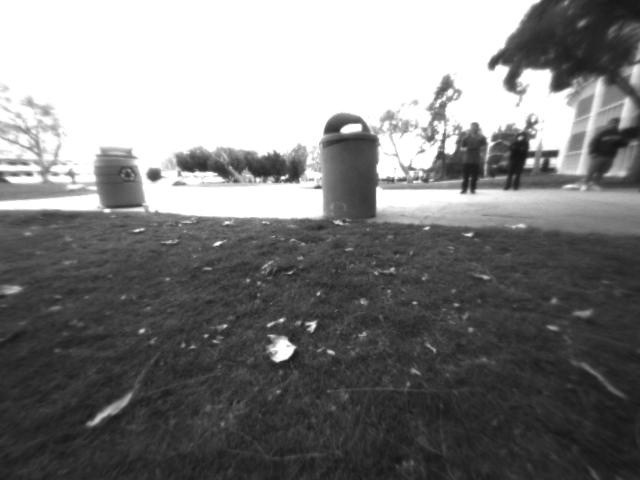trashcan: (310, 107, 388, 229)
